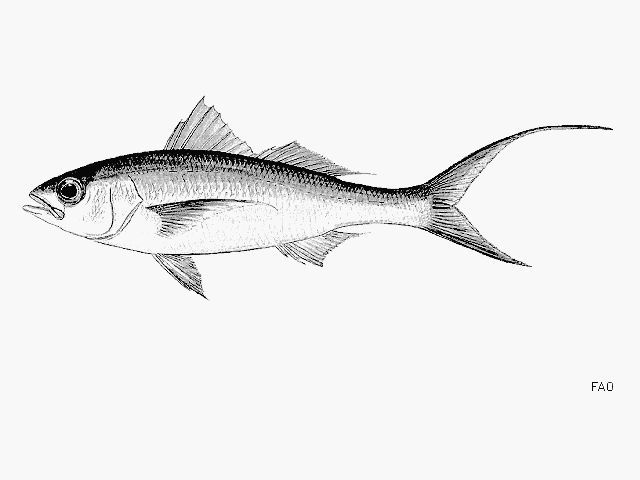fish: (22, 95, 615, 301)
